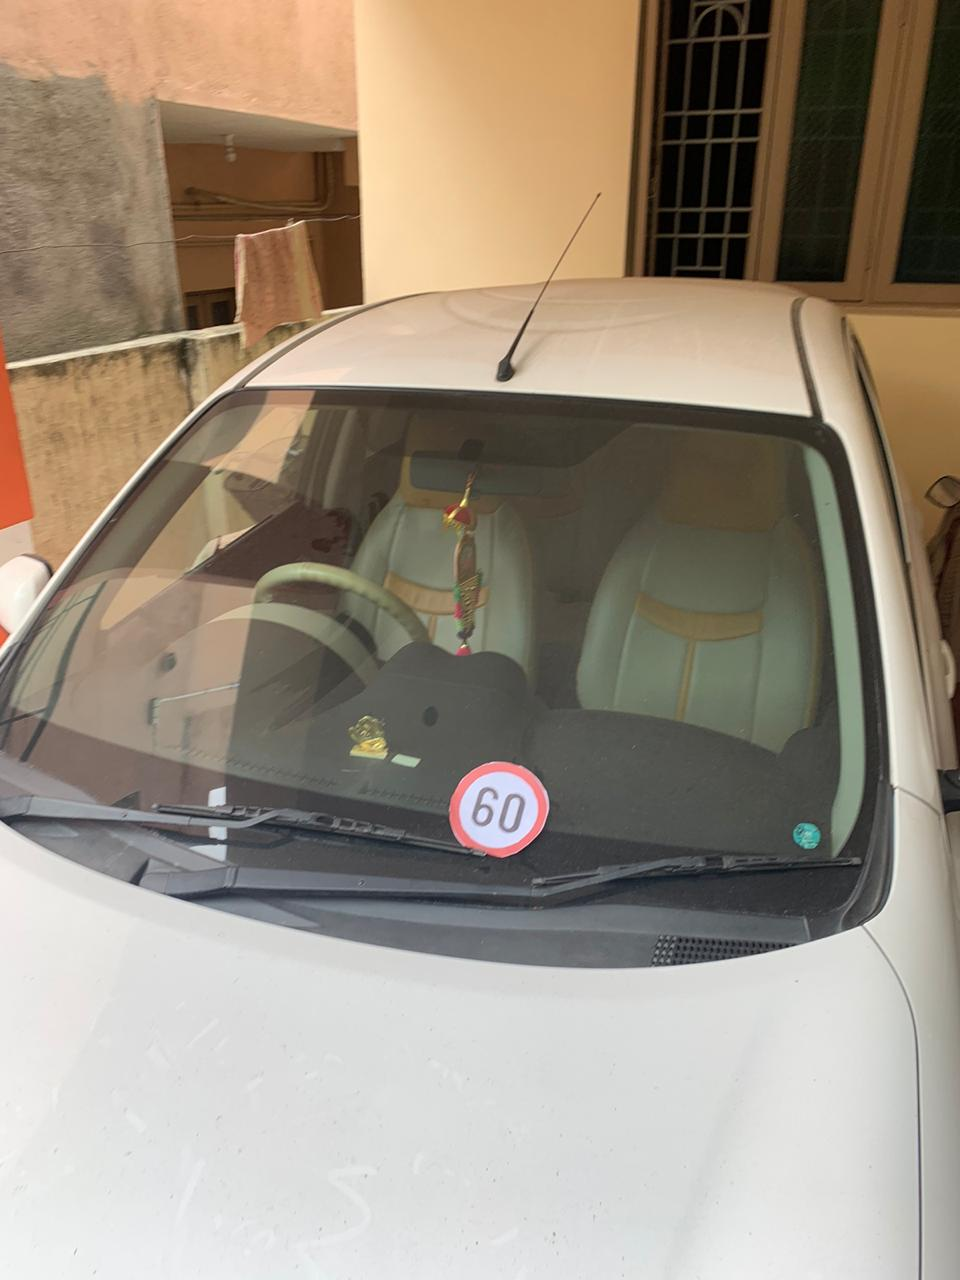SPEED LIMIT (60 KM/H): (437, 752, 565, 861)
